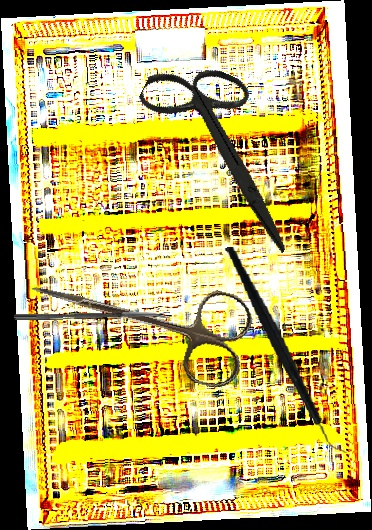Chopper: (224, 235, 350, 465)
Iris Scissors: (104, 43, 344, 254), (18, 246, 258, 393)
Surgical Spoon: (13, 311, 171, 322)
